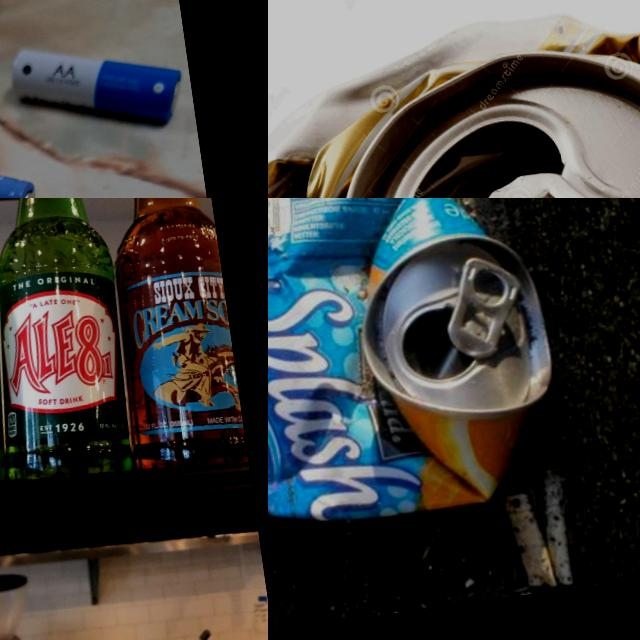aba de lata: (439, 252, 531, 362), (474, 158, 640, 198)
bateria: (3, 24, 192, 150)
garrafa de vidro: (89, 198, 248, 476), (0, 198, 143, 491)
lata: (268, 198, 570, 546), (268, 0, 640, 198)
